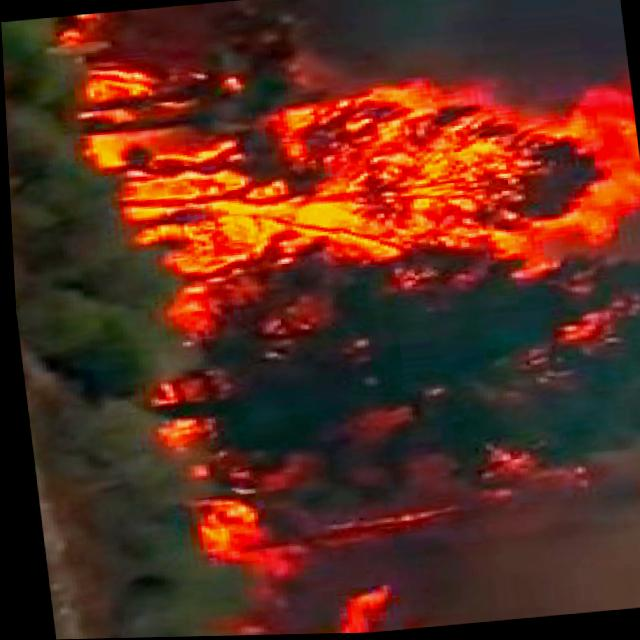fire: (126, 88, 640, 292)
